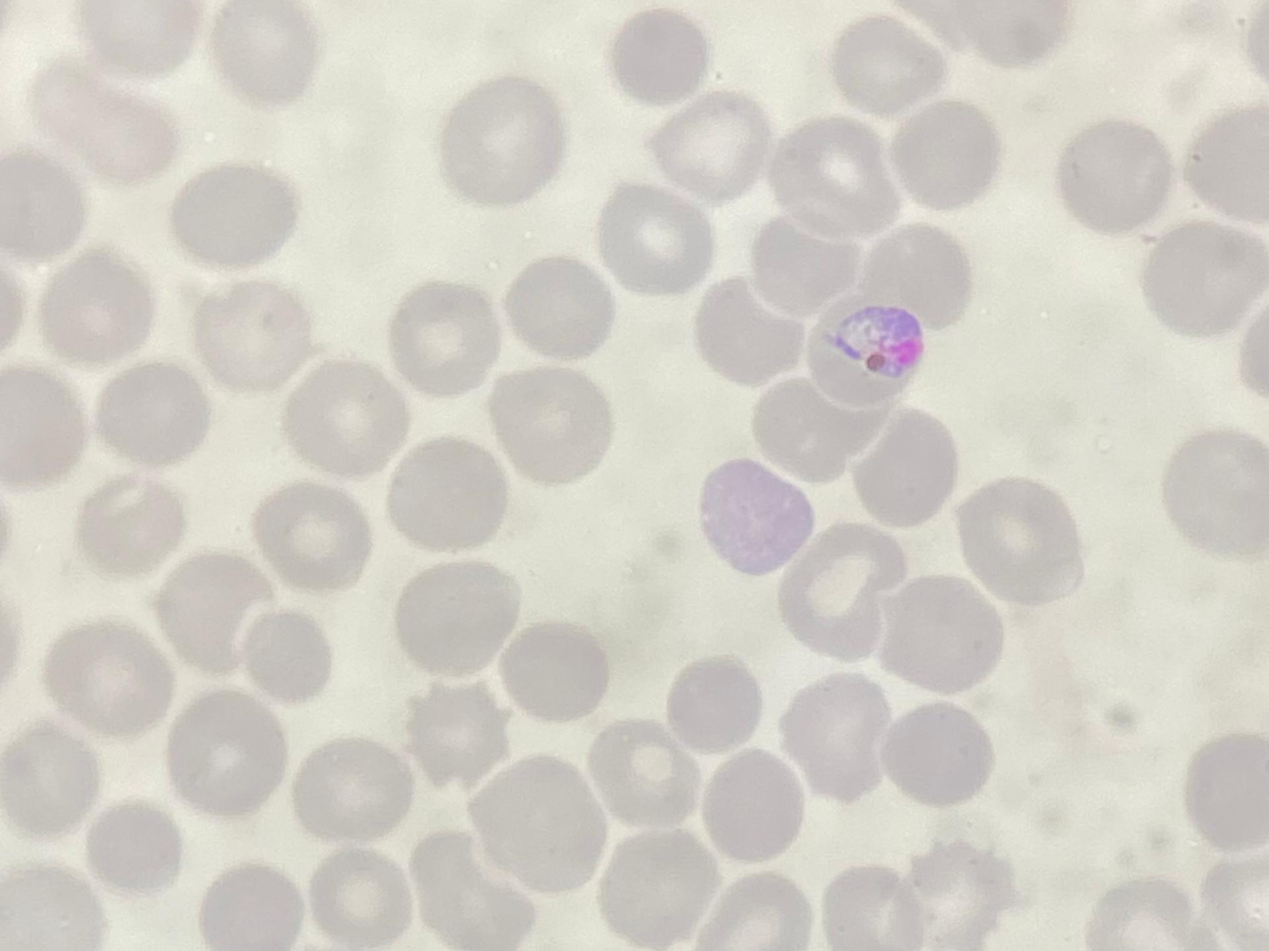Infected: (801, 291, 921, 407)
Uninfected: (465, 757, 605, 890), (31, 64, 178, 185), (436, 73, 566, 206), (951, 476, 1082, 604), (778, 522, 906, 653), (874, 572, 1001, 693), (392, 559, 522, 676), (166, 693, 288, 816), (153, 549, 272, 673), (771, 115, 896, 233), (44, 620, 172, 735), (778, 672, 896, 796), (386, 436, 513, 551), (407, 835, 535, 948), (282, 360, 407, 475), (1142, 219, 1264, 336), (488, 367, 611, 481), (597, 831, 720, 942), (169, 163, 297, 268), (849, 408, 961, 528), (251, 479, 374, 588), (191, 278, 313, 387), (1163, 429, 1269, 554), (39, 251, 153, 365), (701, 456, 814, 571), (652, 89, 771, 198), (855, 224, 974, 332), (289, 736, 409, 842), (886, 99, 999, 211), (1058, 118, 1171, 230), (750, 373, 866, 481), (878, 701, 995, 808), (389, 281, 504, 389), (95, 359, 209, 467), (597, 186, 712, 293), (751, 213, 863, 318), (76, 473, 189, 577), (588, 722, 699, 827), (502, 256, 614, 359), (699, 750, 804, 859), (406, 676, 514, 780), (695, 276, 798, 383), (904, 845, 1012, 947), (498, 621, 609, 720), (0, 363, 89, 486), (909, 2, 1067, 71), (829, 15, 942, 110), (0, 726, 99, 834), (605, 12, 710, 110), (305, 848, 412, 944), (210, 1, 316, 97), (664, 654, 764, 754), (1183, 732, 1269, 845), (1185, 106, 1269, 221), (196, 862, 305, 948), (83, 800, 182, 894), (692, 872, 809, 951), (1, 149, 83, 260), (81, 0, 200, 73), (240, 608, 334, 700), (0, 864, 101, 948), (820, 868, 919, 948), (1087, 878, 1196, 945)
